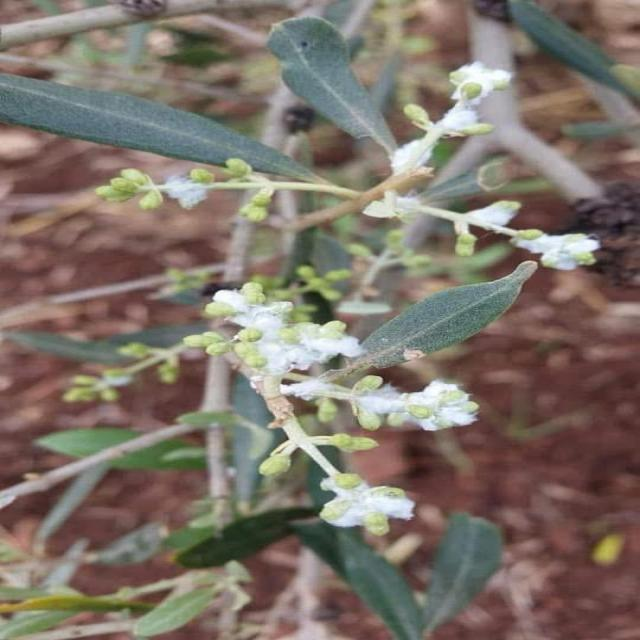Psyllid: (373, 193, 599, 270), (205, 281, 358, 382), (261, 439, 416, 537), (389, 61, 511, 177), (333, 375, 478, 431), (139, 167, 216, 209)
